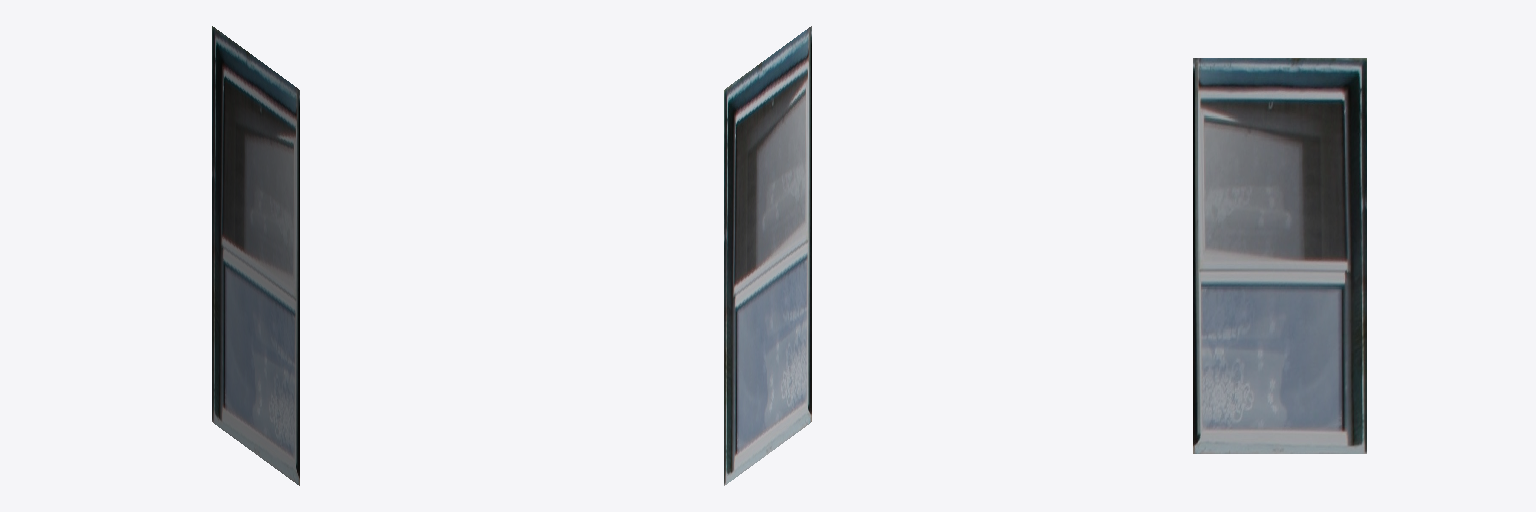
3 views of the same model, side by side, from view 1: azimuth 30°, elevation 25°; view 2: azimuth 150°, elevation 25°; view 3: azimuth 270°, elevation 25° (orthographic).
Visible parts, largest first — view 1: Plane001; view 2: Plane001; view 3: Plane001.
Boxes of the visible parts, x1=… form: Plane001: x1=212, y1=26, x2=299, y2=485; Plane001: x1=724, y1=26, x2=811, y2=485; Plane001: x1=1193, y1=58, x2=1366, y2=453.
Bounding box in the file's own units: 0 × 502 × 200.
Materials: 1 (1 with a texture image).